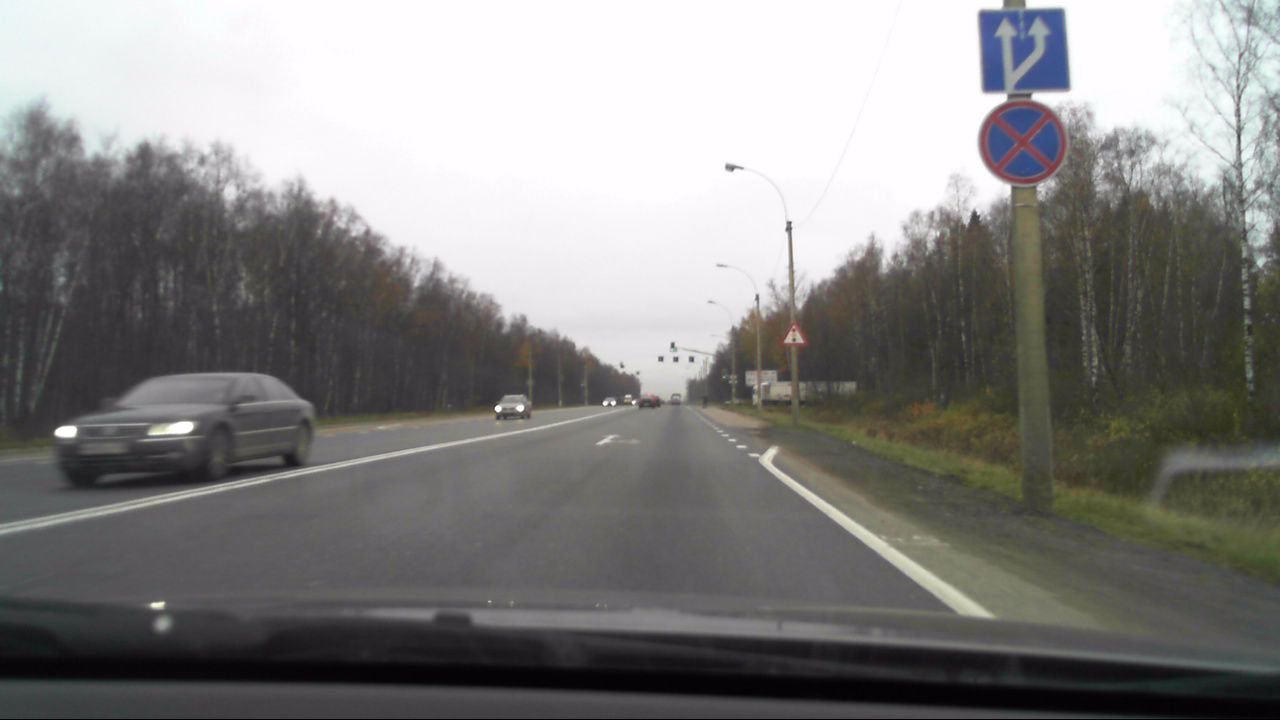No Parking: (980, 99, 1069, 188)
